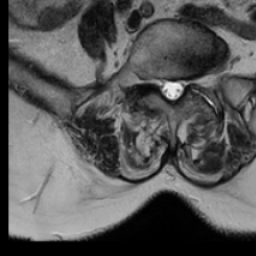CCS_stenosis: (168, 70, 176, 110)
LFS_severe_stenosis: (186, 66, 196, 96)
LLS_normal: (176, 69, 186, 104)
RFS_stenosis: (147, 66, 158, 94)
RLS_normal: (158, 69, 168, 103)
